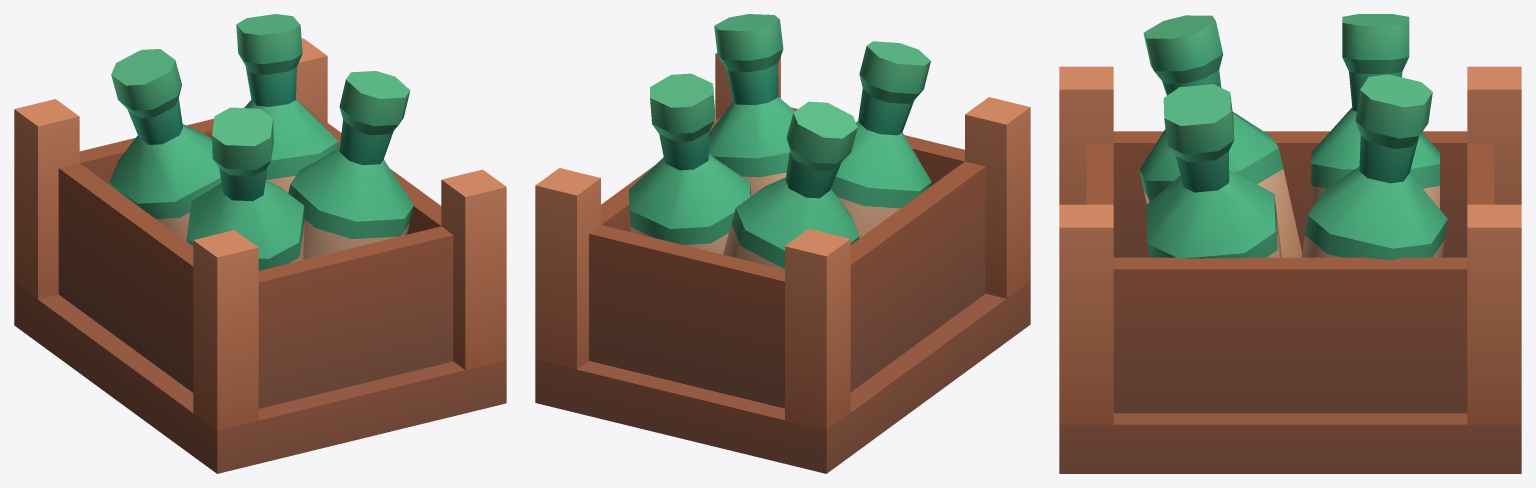
Rendered from kenney-pirate-crate-bottles.glb.
3 views of the same model, side by side, from view 1: azimuth 30°, elevation 25°; view 2: azimuth 150°, elevation 25°; view 3: azimuth 270°, elevation 25° (orthographic). The views are drawn at different scales.
Parts seen in each view (by area): view 1: crate-bottles; view 2: crate-bottles; view 3: crate-bottles.
Boxes of the visible parts, x1,y1,x2,y2 form: crate-bottles: [14, 14, 506, 473]; crate-bottles: [535, 14, 1030, 473]; crate-bottles: [1059, 14, 1521, 473].
Size of the model in its own units: 1.08 by 1.06 by 1.31.
Materials: 1 (1 with a texture image).
